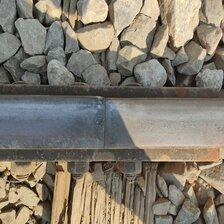railway-gap: (56, 78, 154, 168)
